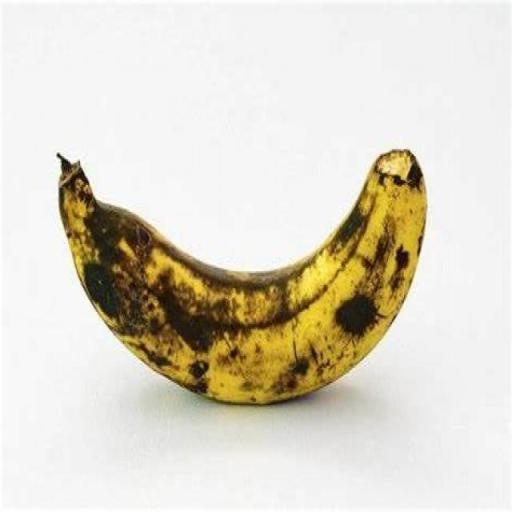fruit: (381, 110, 470, 341)
